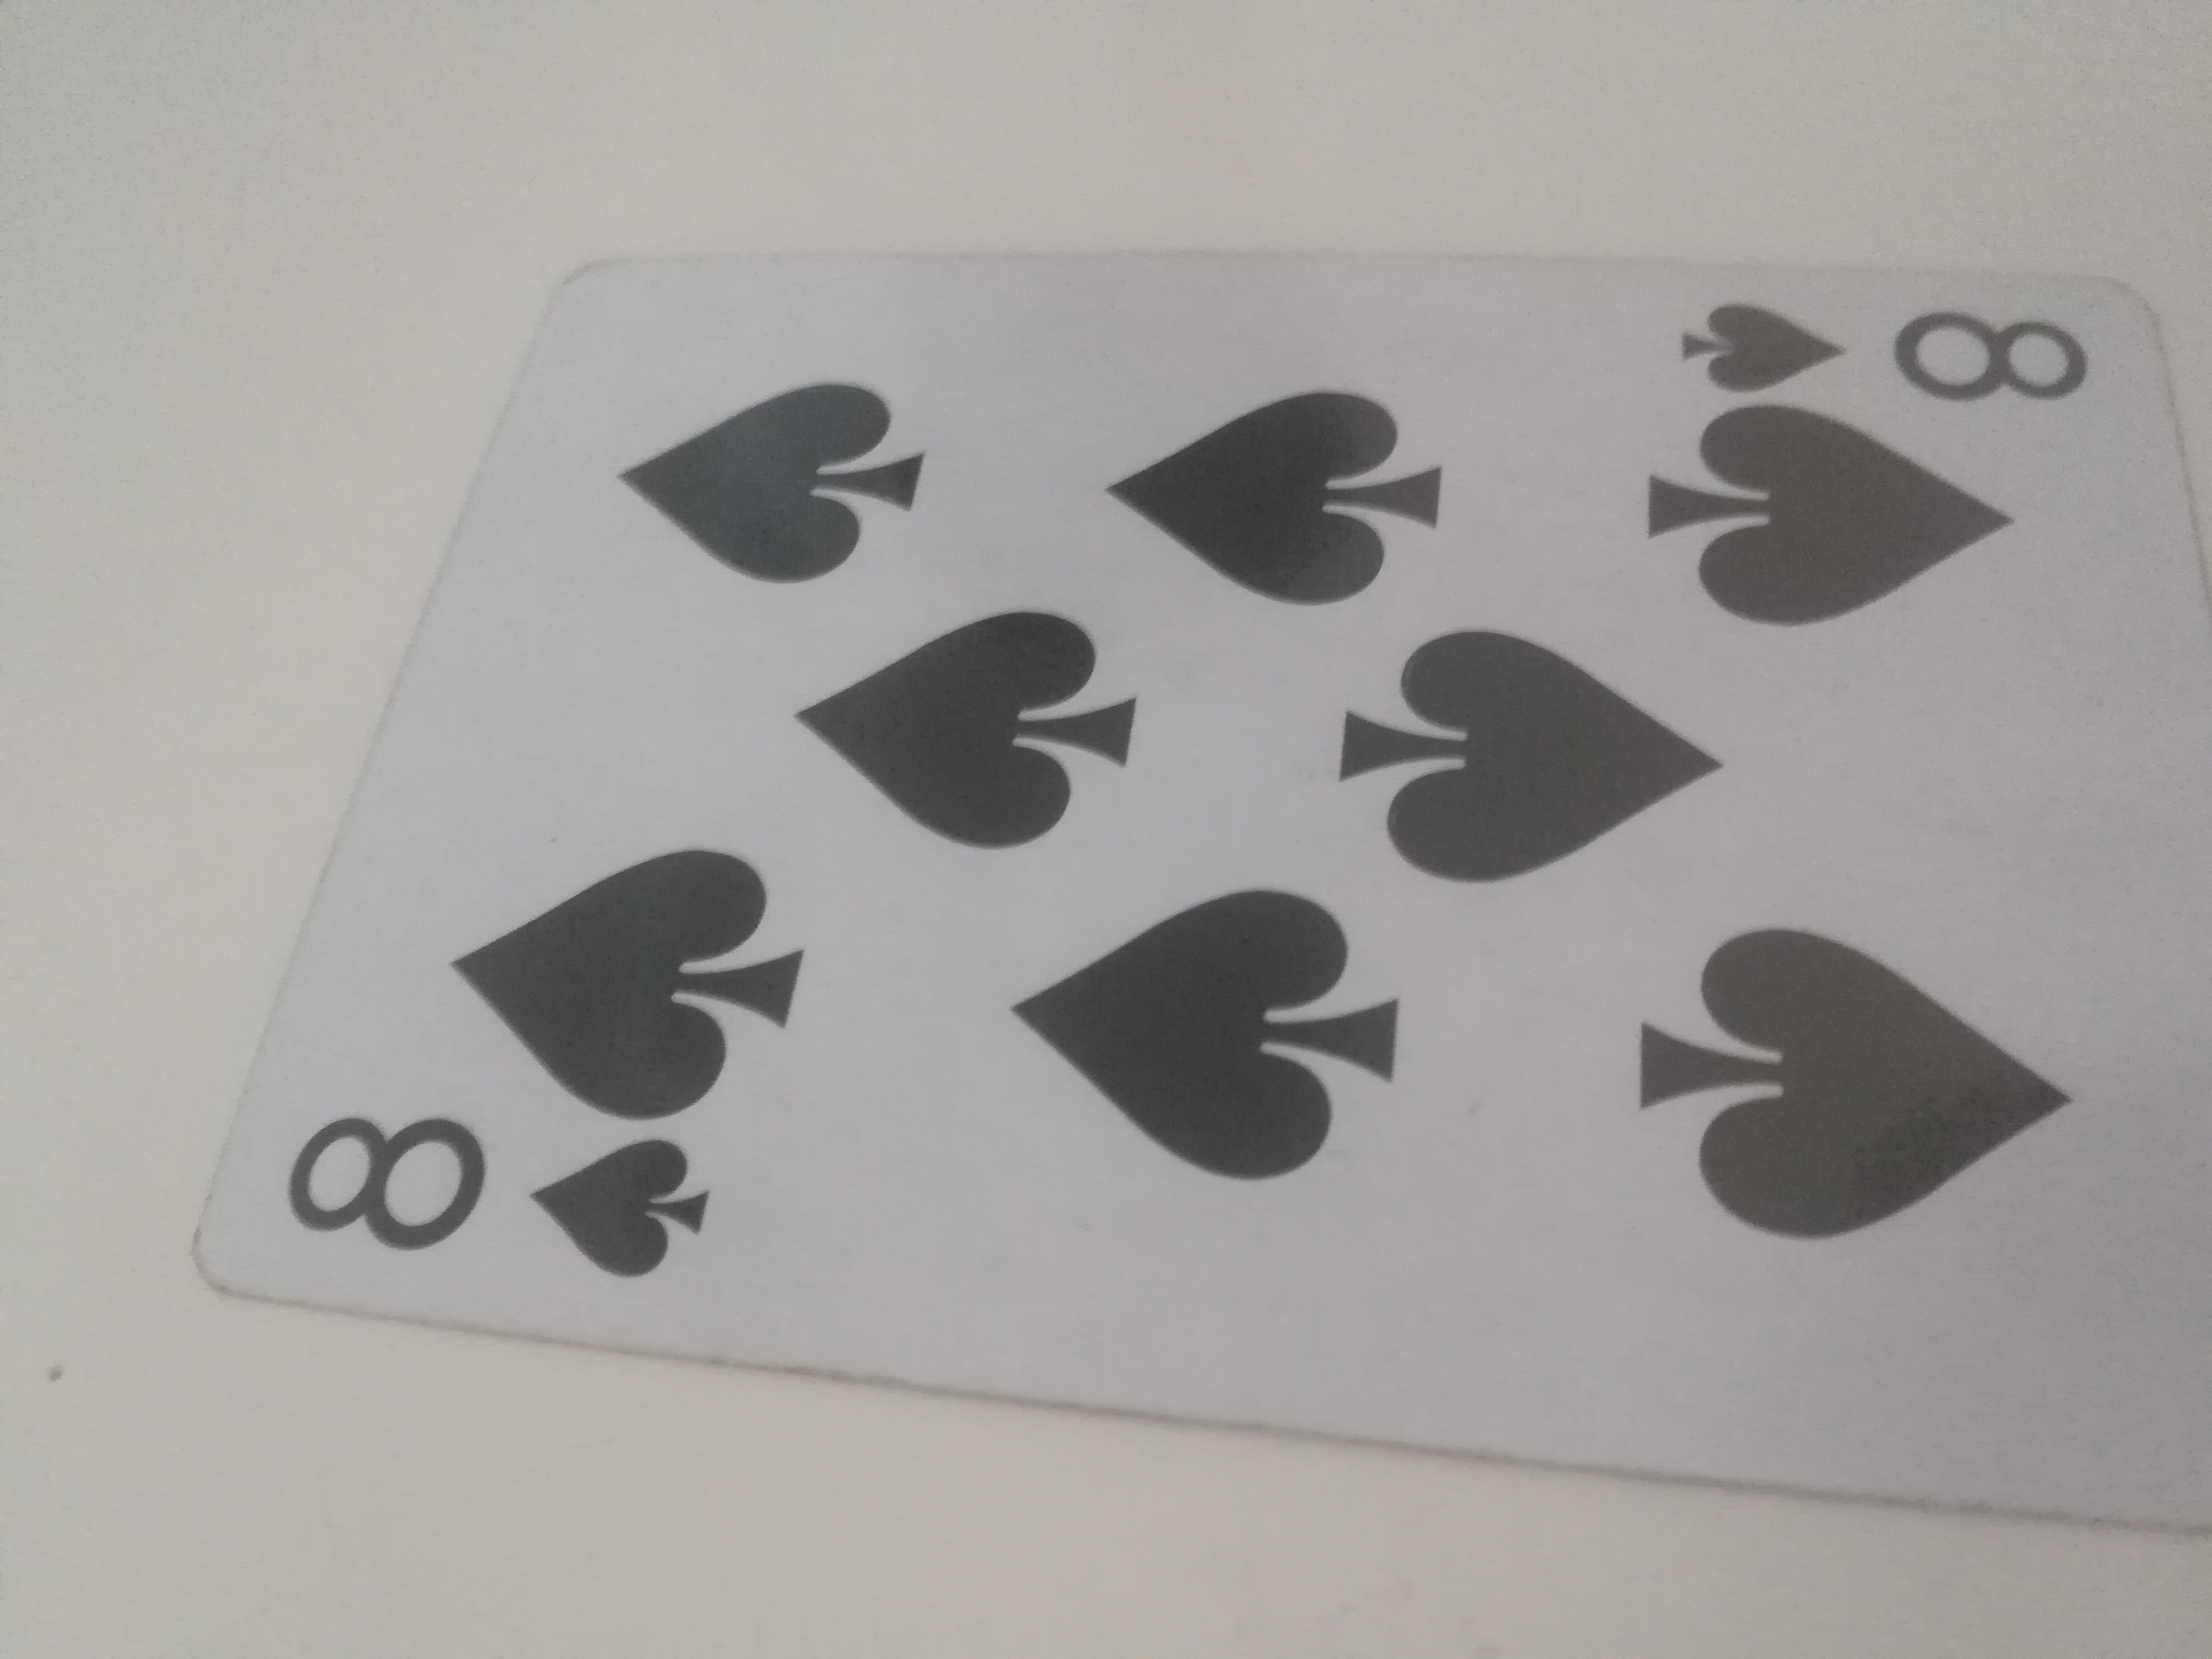8S: (199, 279, 2212, 1549)
